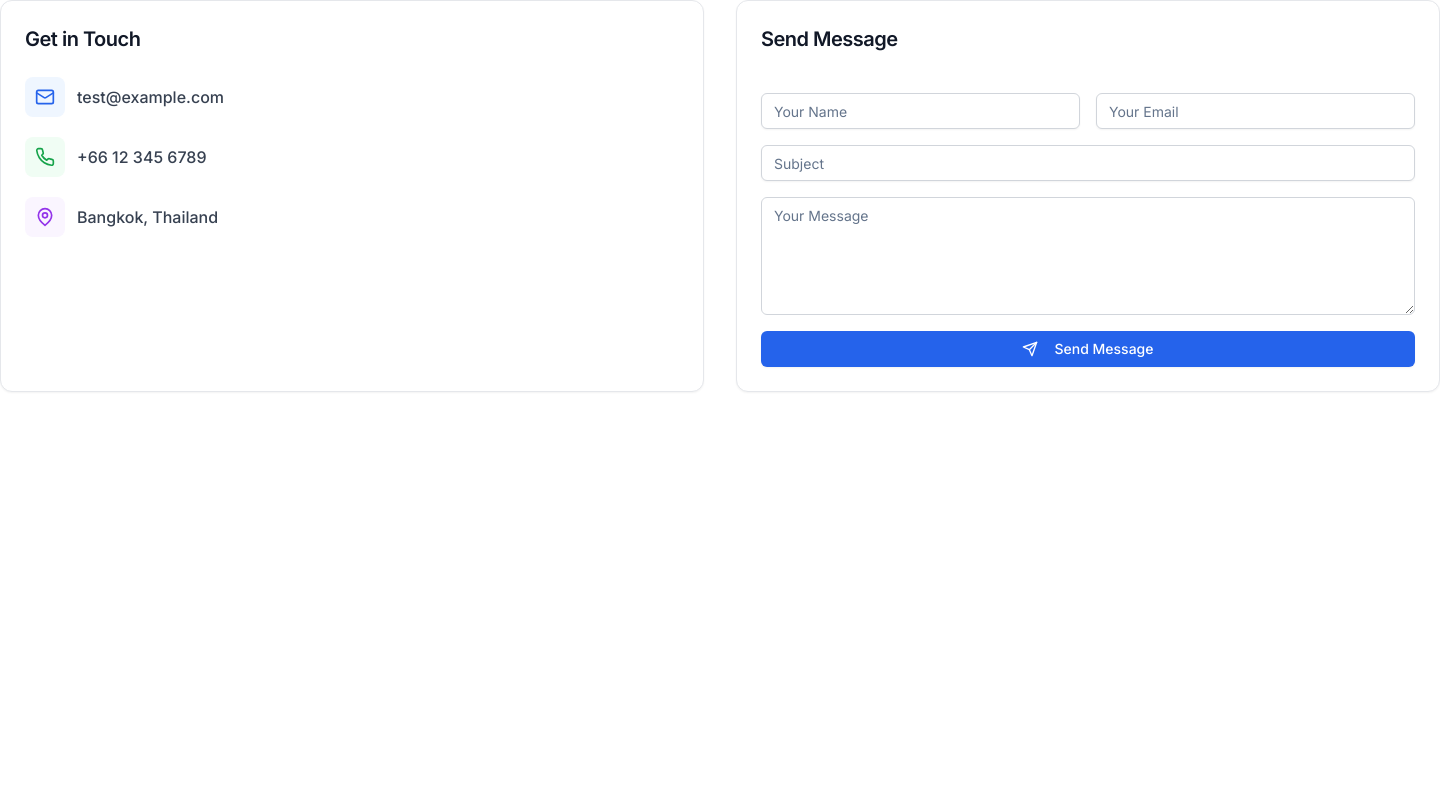
Test case: ContactFormWidget › handles input changes and submits form successfully
Type "John Doe" into the field with placeholder "Your Name" at (920, 111), box [761,93,1080,129]
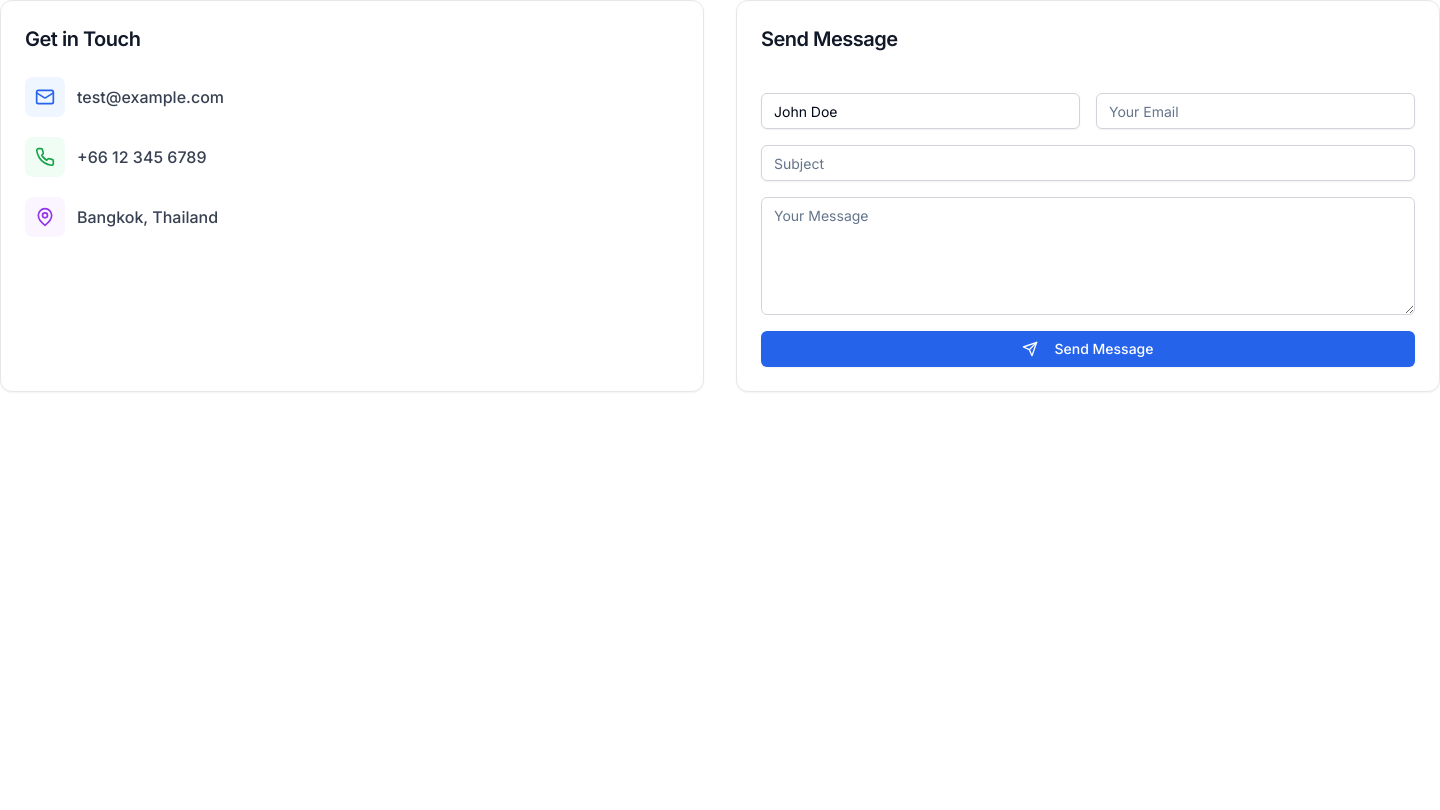
Type "john@example.com" into the field with placeholder "Your Email" at (1256, 111), box [1096,93,1415,129]
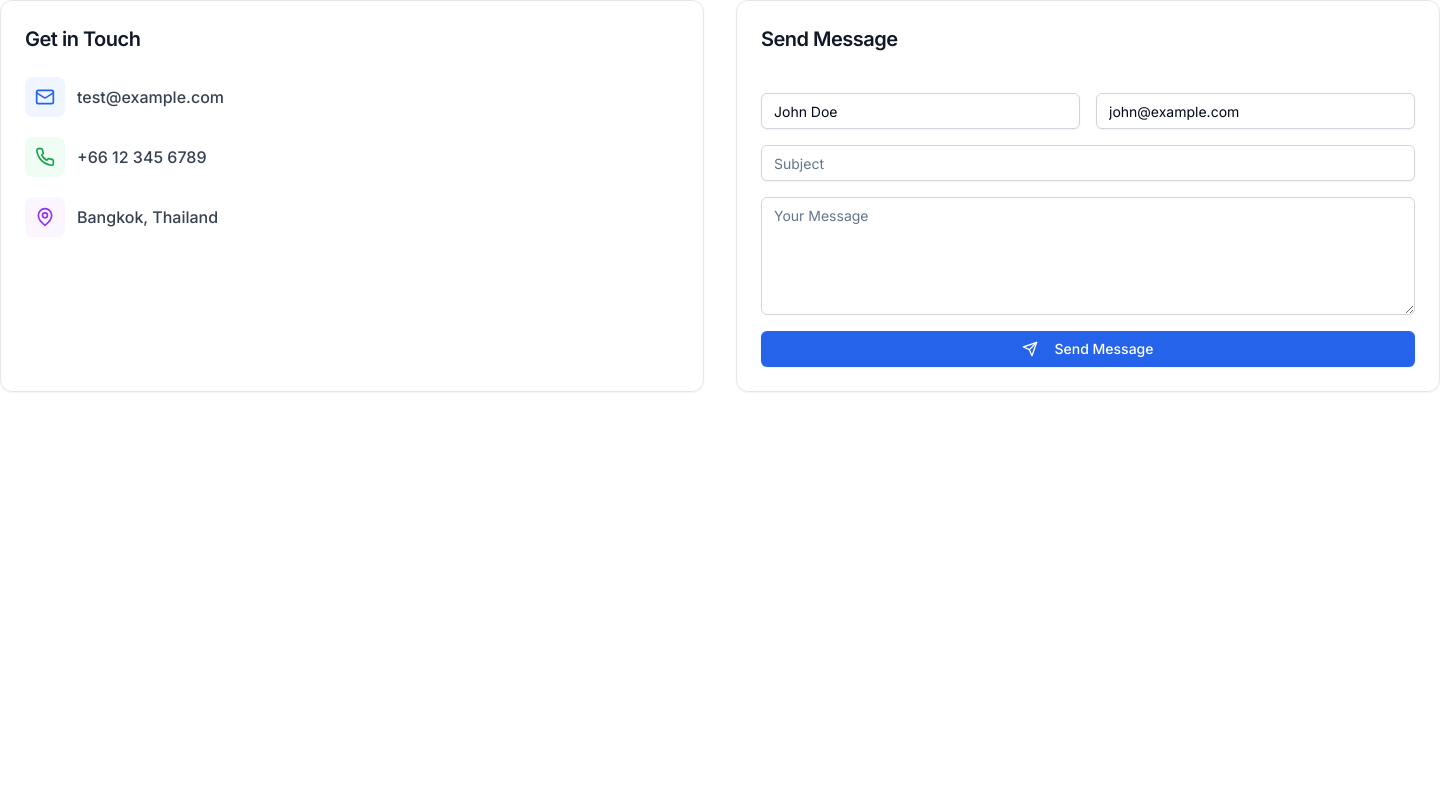
Type "Inquiry" into the field with placeholder "Subject" at (1088, 163), box [761,145,1415,181]
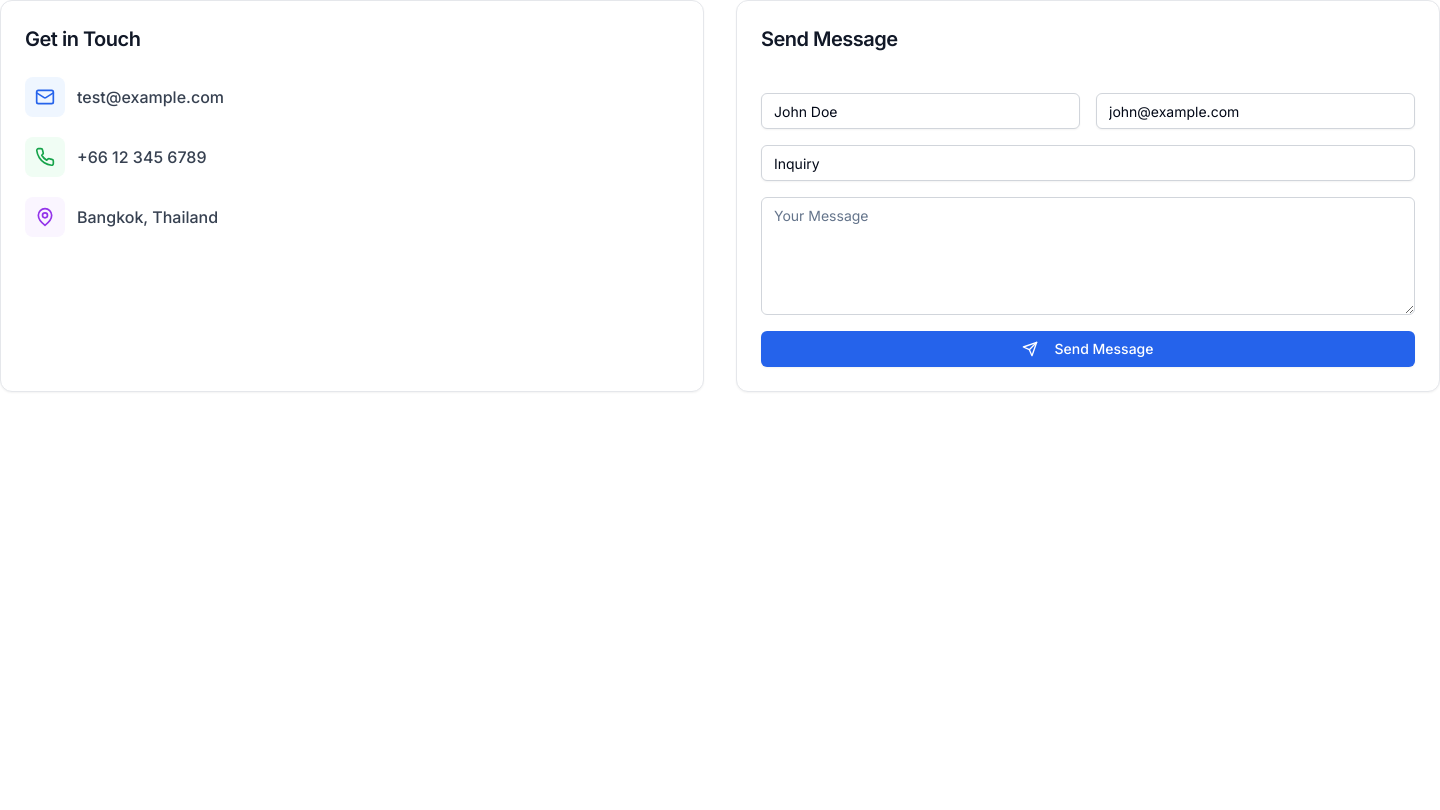
Type "Hello there!" into the text box with placeholder "Your Message" at (1088, 256), box [761,197,1415,315]
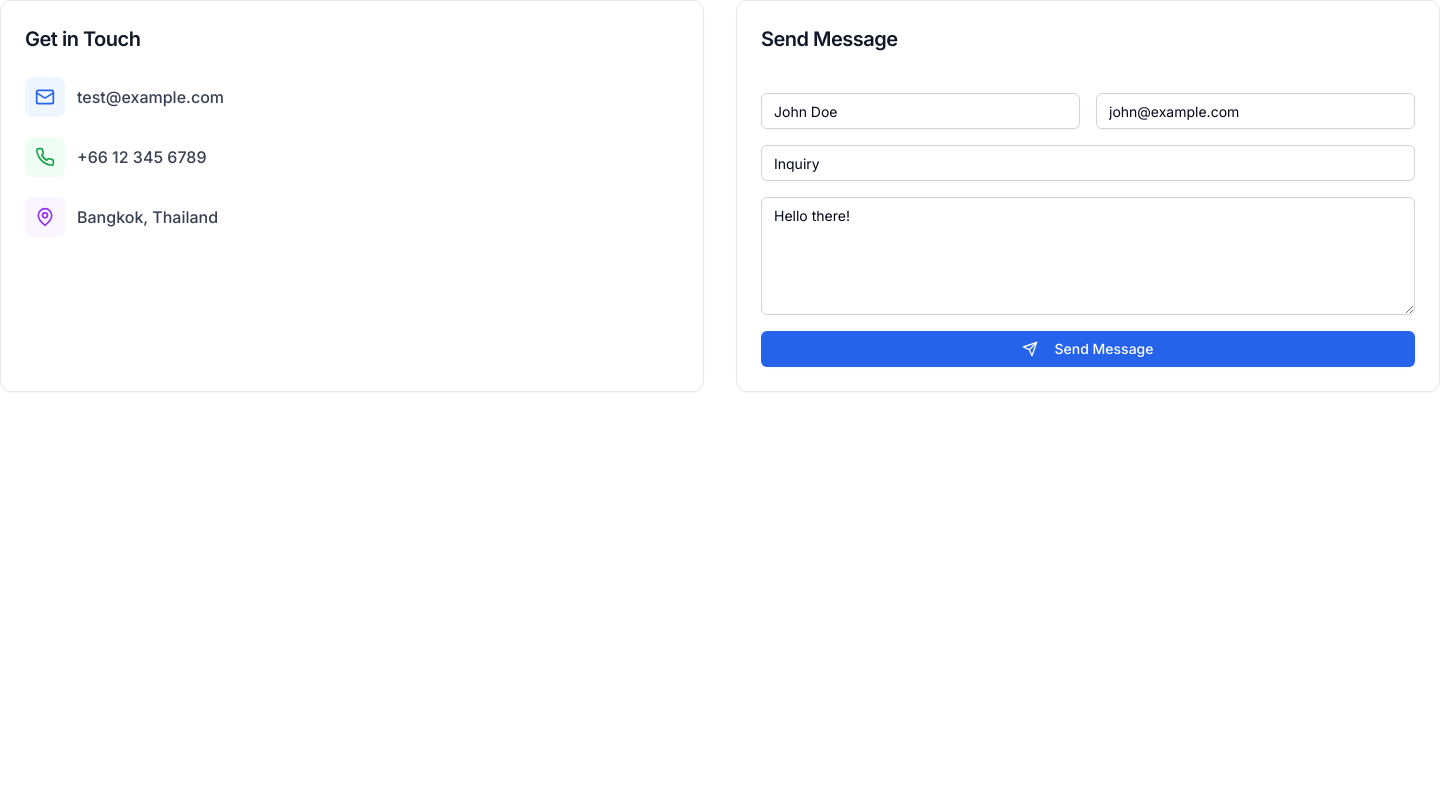
Click the button "Send Message" at (1088, 349), box [761,331,1415,367]
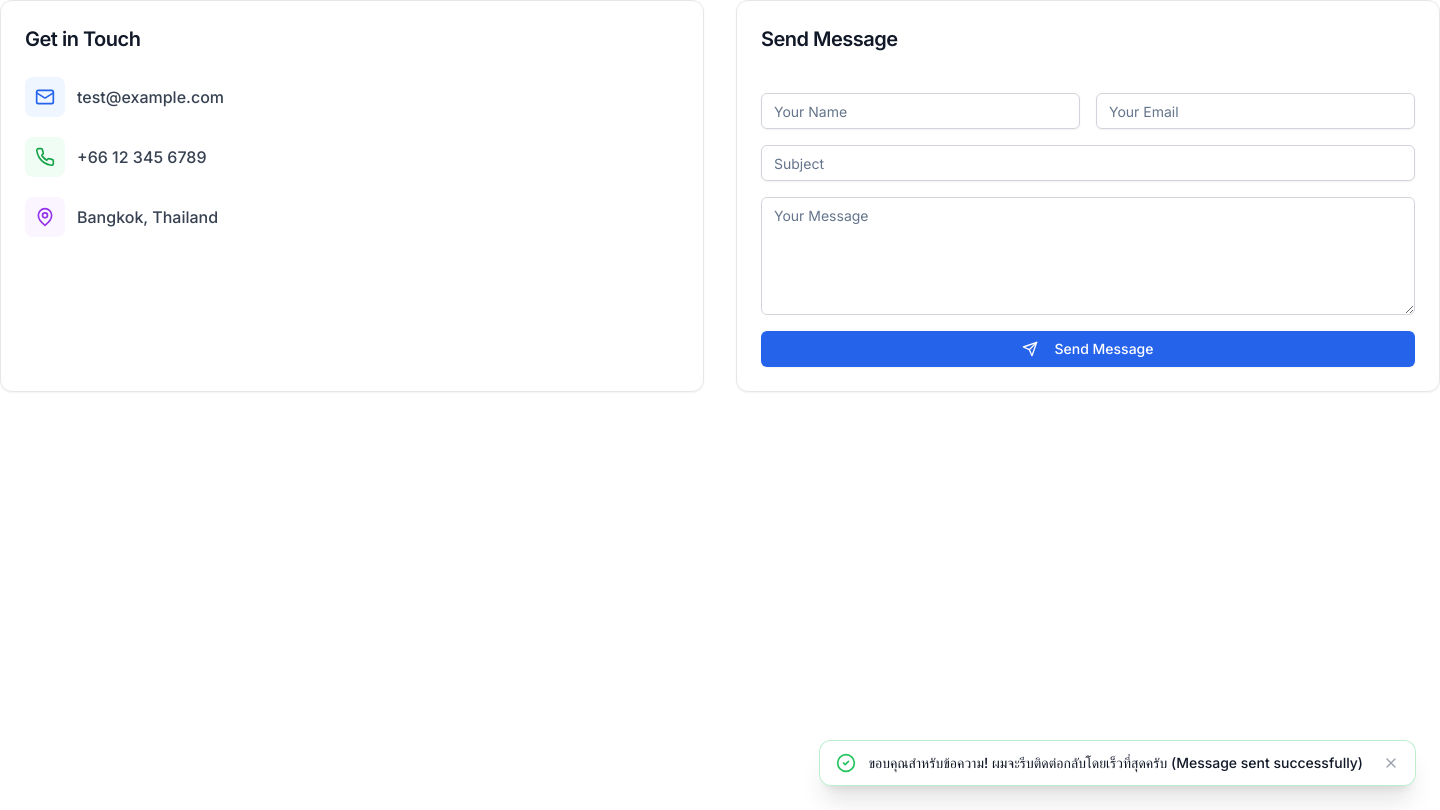
Now the message is shown, box [819,740,1416,786]
Now the text "Message sent successfully" is shown, box [868,754,1363,771]
